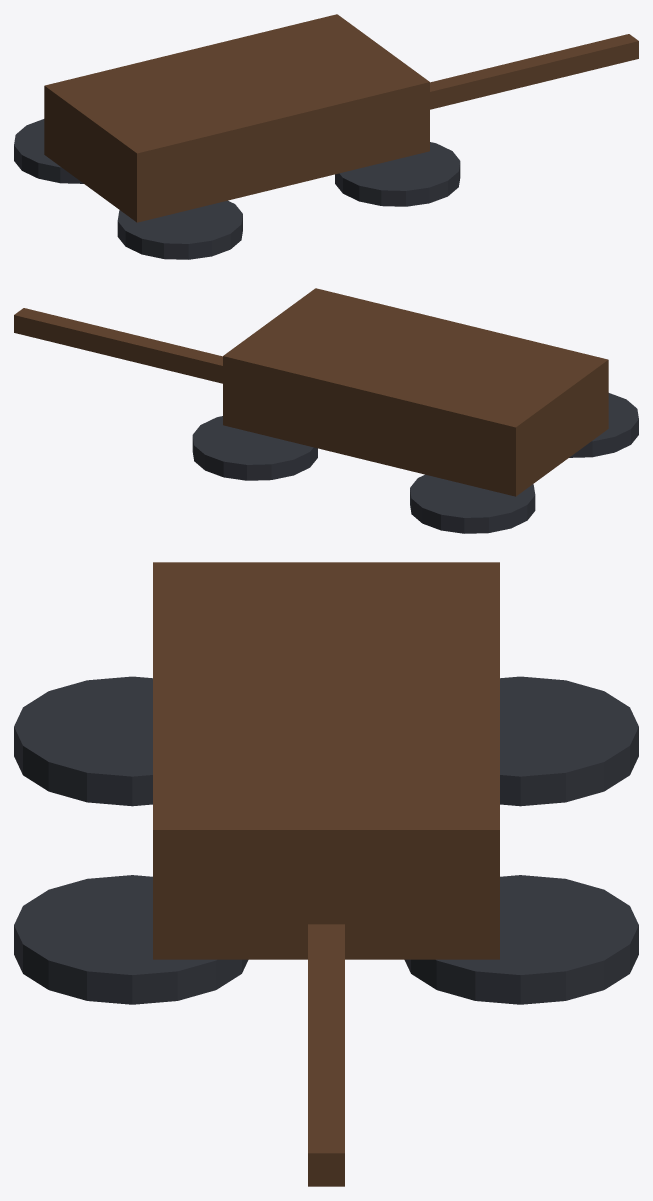
The model's file is wagon.glb.
The picture shows the model from 3 angles, top to bottom: view 1: azimuth 30°, elevation 25°; view 2: azimuth 150°, elevation 25°; view 3: azimuth 270°, elevation 25°; orthographic projection. The views are drawn at different scales.
Parts seen in each view (by area): view 1: Bed, Tongue, Wheel-1.150.95, Wheel1.150.95, Wheel-1.15-0.95; view 2: Bed, Tongue, Wheel-1.15-0.95, Wheel1.15-0.95, Wheel-1.150.95; view 3: Bed, Wheel1.15-0.95, Wheel1.150.95, Wheel-1.15-0.95, Wheel-1.150.95, Tongue.
Part boxes in pixels (box(x1,y1,x2,y2)): Bed: box(44, 14, 429, 222); Tongue: box(430, 34, 638, 109); Wheel-1.150.95: box(117, 200, 242, 259); Wheel1.150.95: box(335, 142, 460, 206); Wheel-1.15-0.95: box(14, 119, 83, 183); Bed: box(223, 288, 608, 496); Tongue: box(14, 308, 222, 383); Wheel-1.15-0.95: box(410, 474, 535, 533); Wheel1.15-0.95: box(192, 416, 317, 480); Wheel-1.150.95: box(569, 393, 638, 457); Bed: box(153, 562, 499, 959); Wheel1.15-0.95: box(404, 875, 638, 1004); Wheel1.150.95: box(14, 875, 248, 1004); Wheel-1.15-0.95: box(500, 676, 638, 806); Wheel-1.150.95: box(14, 676, 152, 806); Tongue: box(308, 924, 344, 1186).
Size of the model in its own units: 5.93 by 0.86 by 3.06.
